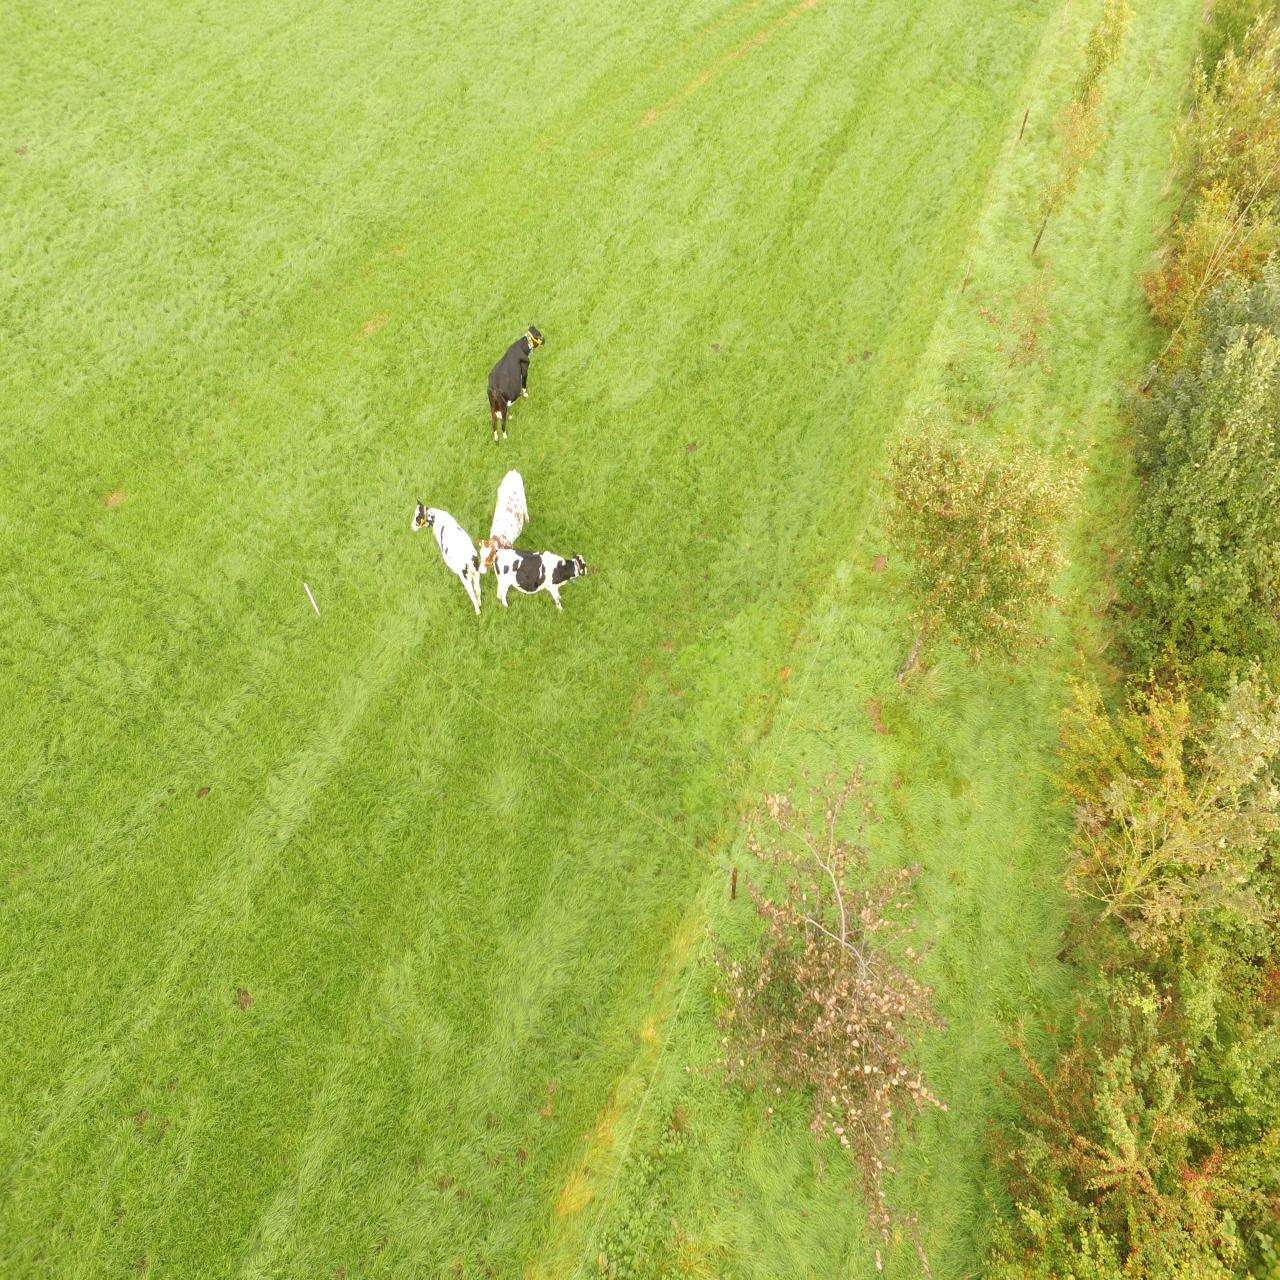cow: (409, 501, 484, 617), (486, 325, 547, 442), (493, 546, 587, 613), (478, 469, 530, 570)
